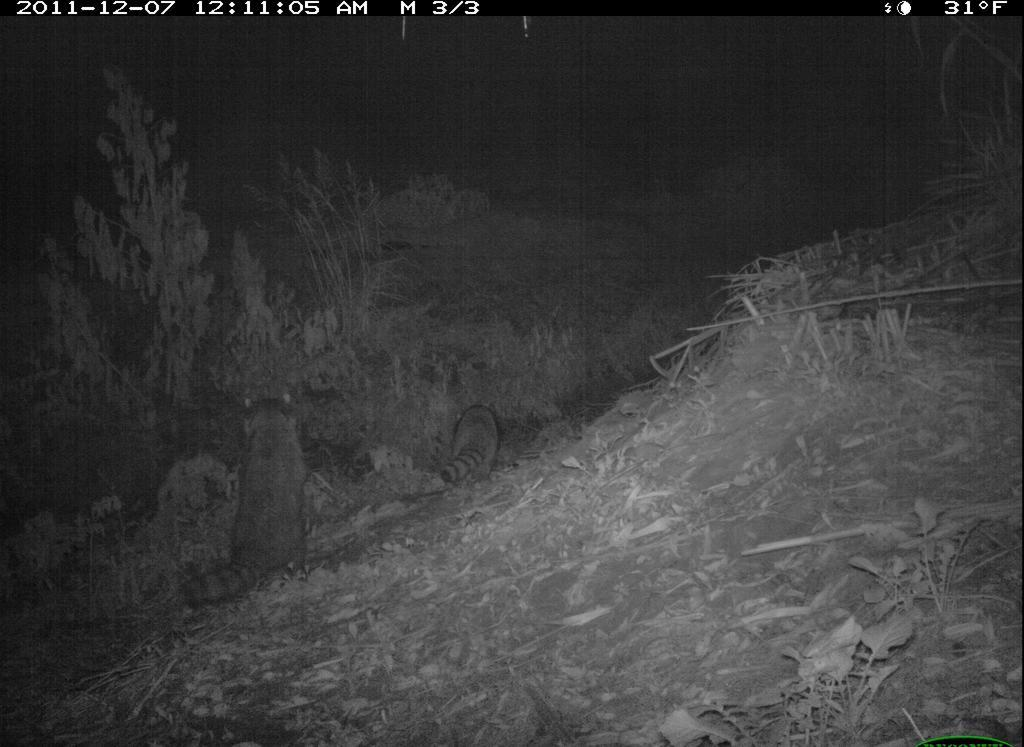raccoon: (175, 387, 319, 617), (434, 390, 514, 502)
